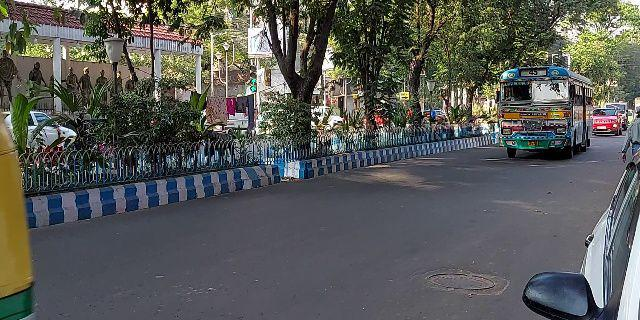Bus: (493, 64, 592, 159)
Car: (592, 104, 624, 139)
